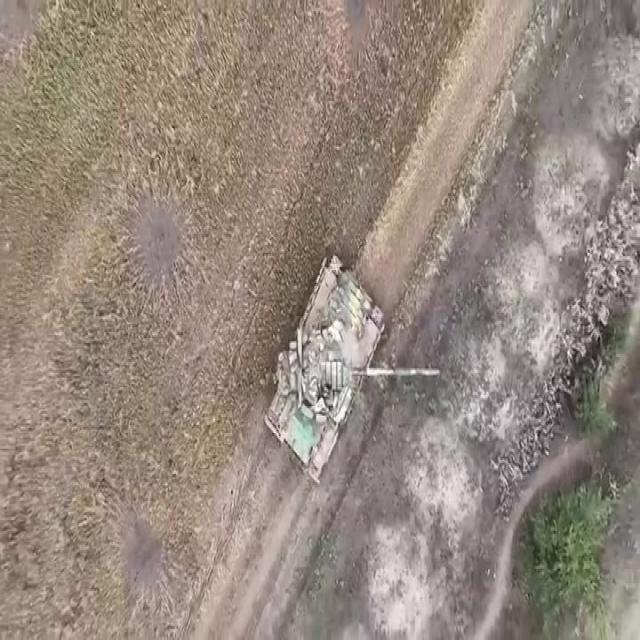tank: (262, 253, 386, 485)
